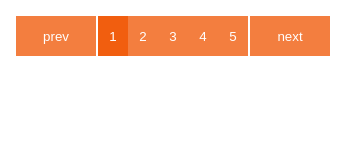
it: selected page should be in the middle if more than 5 pages
Expected: the text "6" is not shown
Click the button "next": (290, 36) [250, 16, 330, 56]
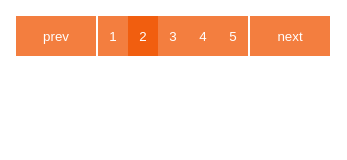
Click the button "next": (290, 36) [250, 16, 330, 56]
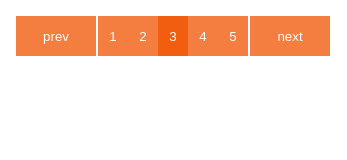
Click the button "next": (290, 36) [250, 16, 330, 56]
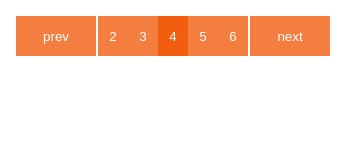
Expected: the button "2" is shown, [98, 16, 128, 56]
Result: the button "1" is gone
Result: the button "6" is shown at [218, 16, 248, 56]
